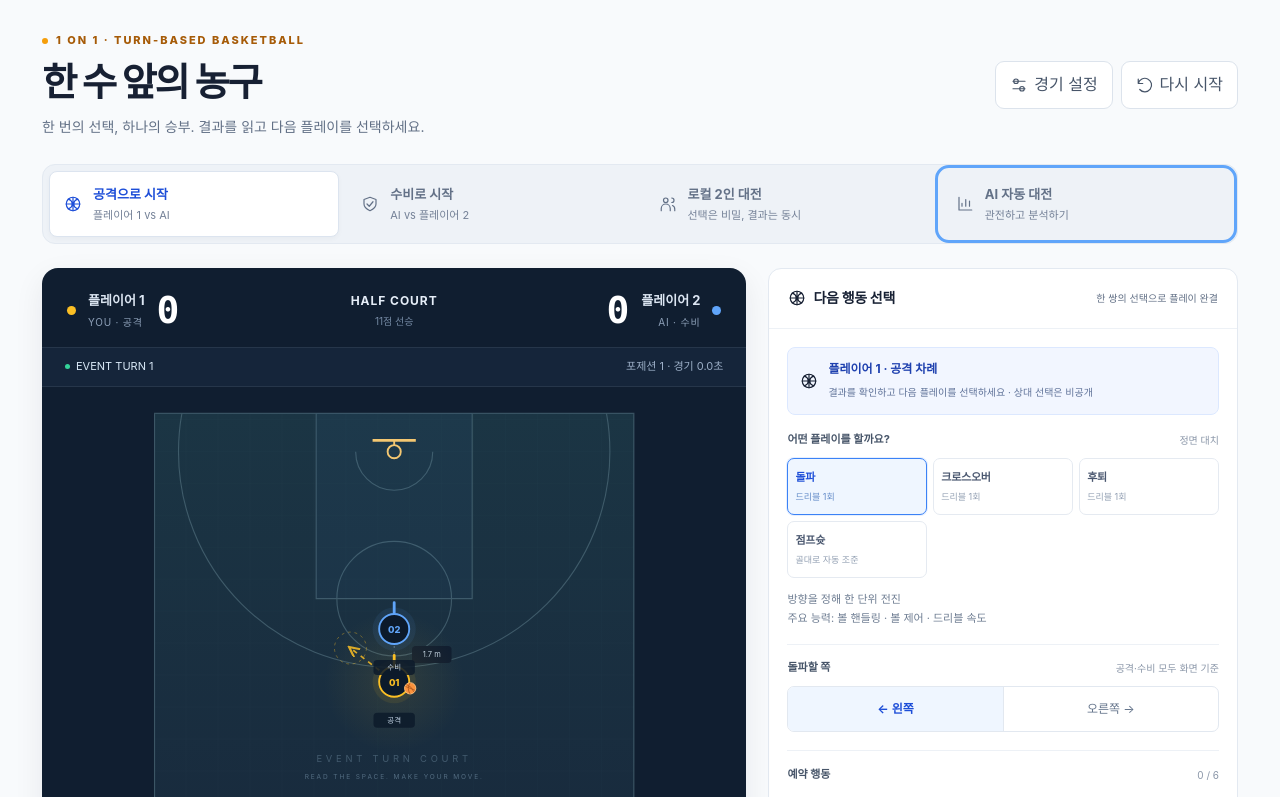
it: BasketballClient: 실제 엔진 연결과 상호작용 › AI 자동 모드에서 한 턴, 자동 시작, 일시 정지를 구분한다
Click the button "AI 자동 대전 관전하고 분석하기" at (1018, 194), box [941,171,1231,237]
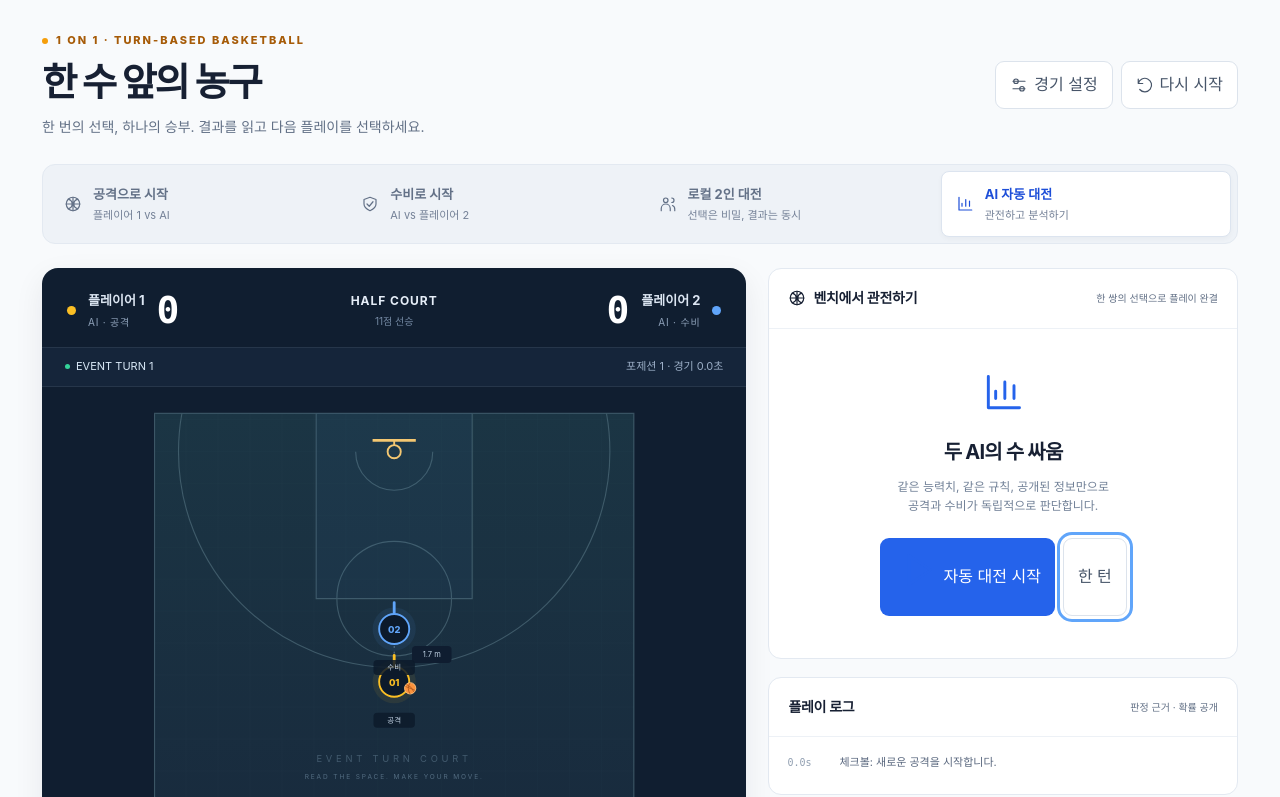
Check: the heading "벤치에서 관전하기" is shown, box [788,287,917,310]
Click the button "한 턴" at (1095, 577), box [1063,538,1127,616]
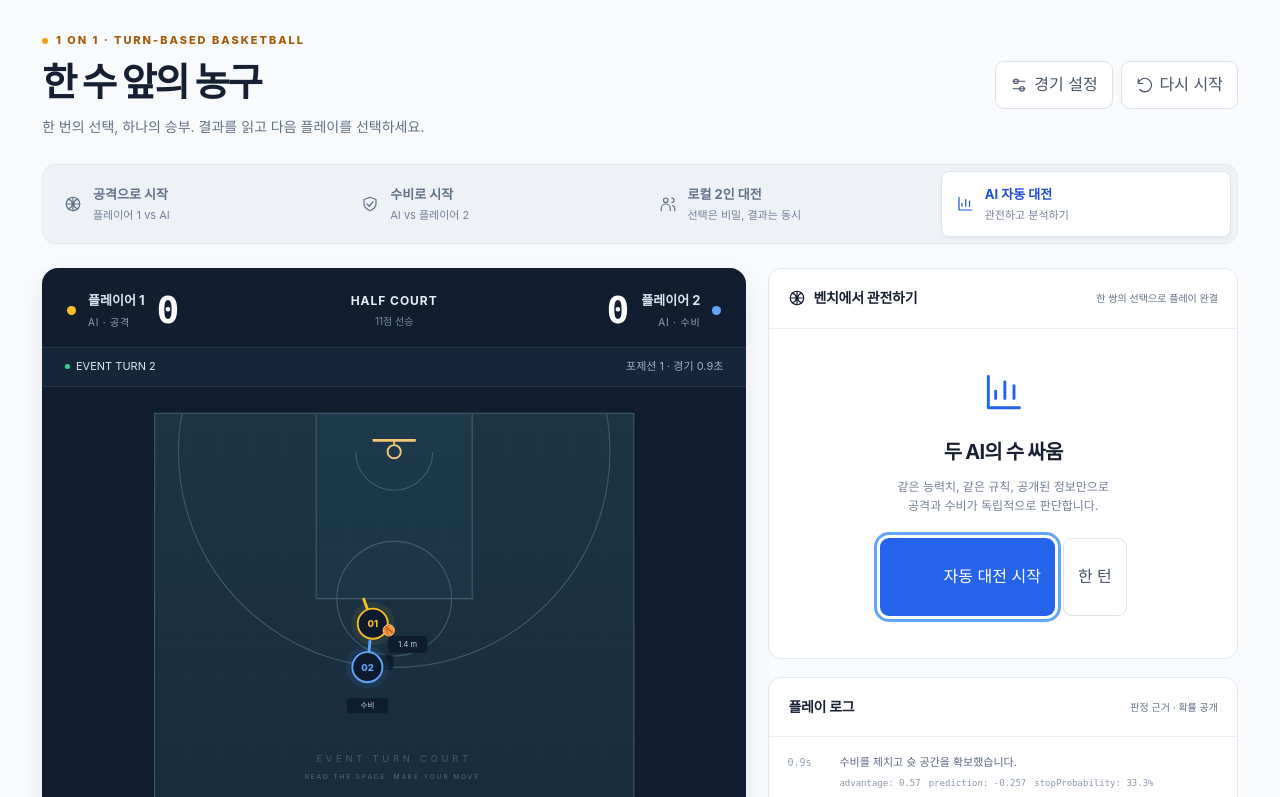
Check: the text "EVENT TURN 2" is shown, box [65,358,156,376]
Click the button "자동 대전 시작" at (967, 577), box [880,538,1055,616]
Wait 1400 ms
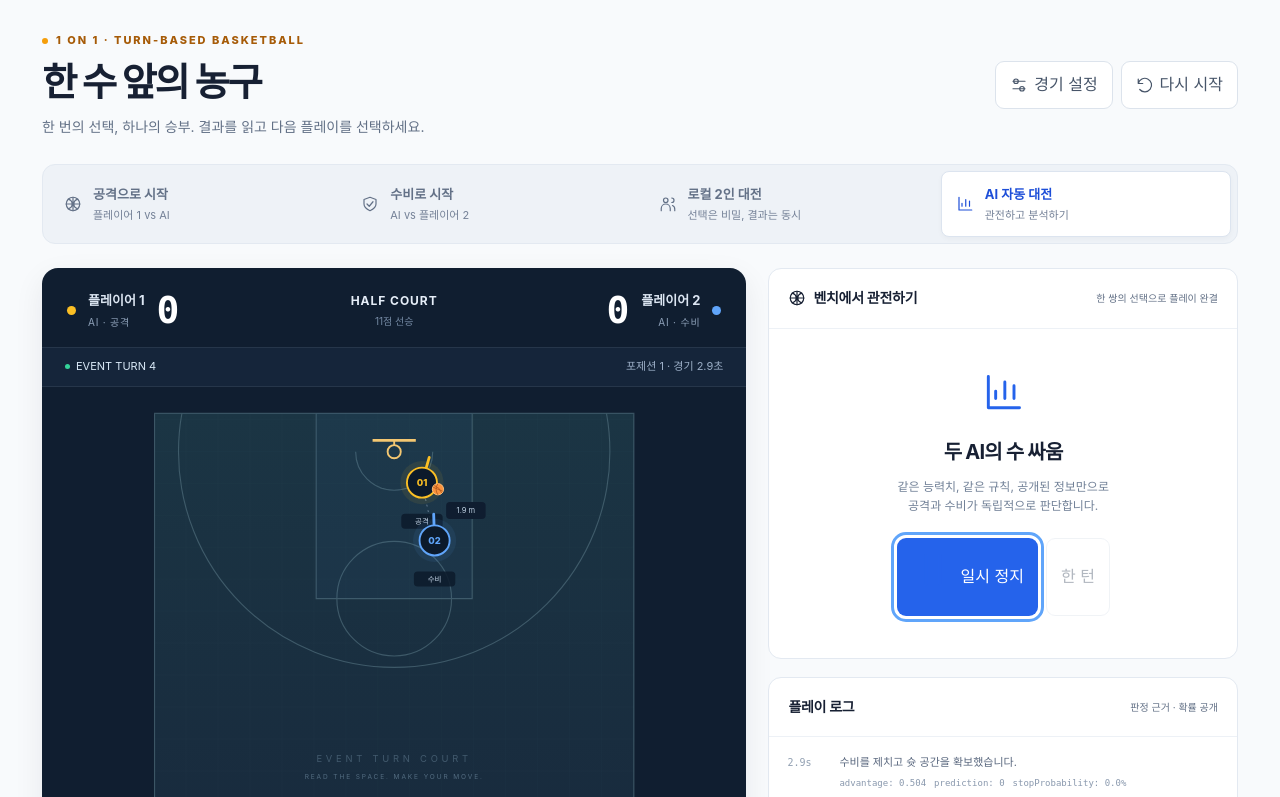
Check: the button "한 턴" is disabled, box [1046,538,1110,616]
Check: the text "EVENT TURN 4" is shown, box [65,358,156,376]
Click the button "일시 정지" at (967, 577), box [896,538,1038,616]
Wait 2100 ms
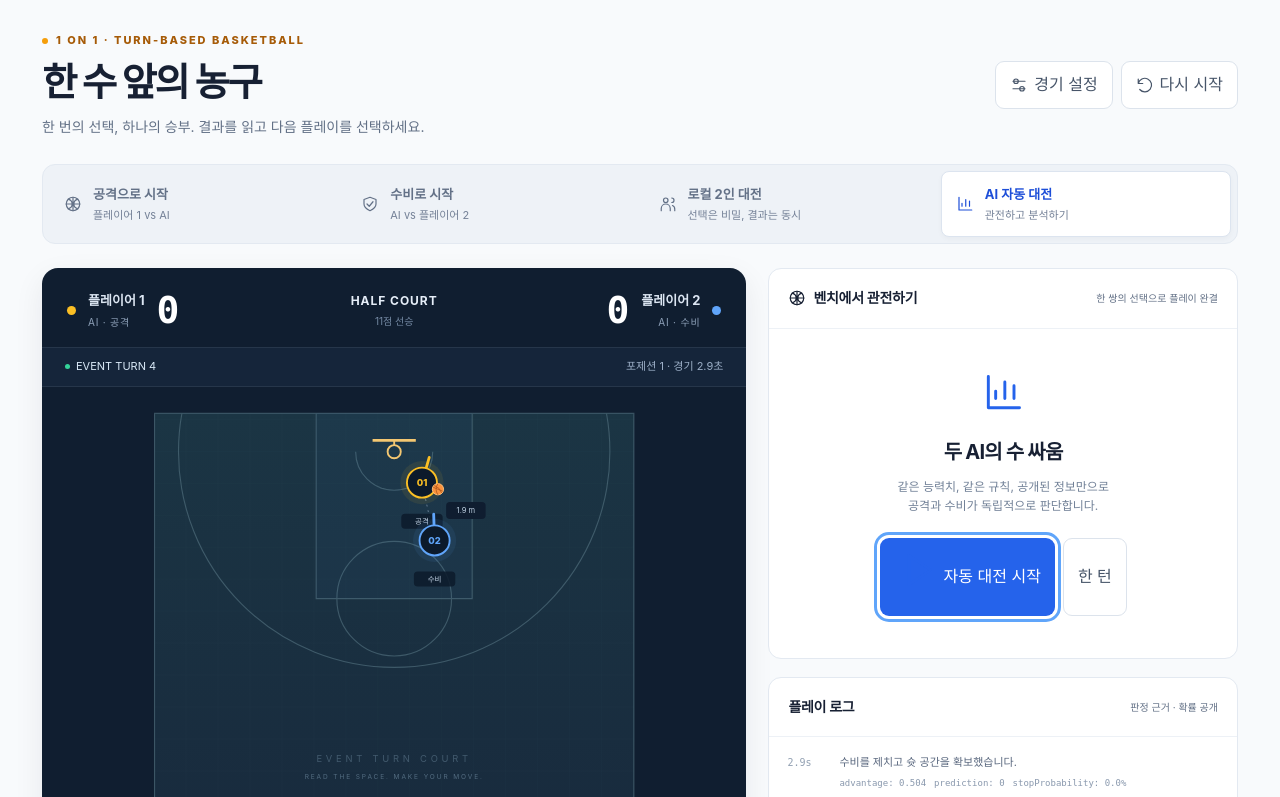
Check: the button "한 턴" is enabled, box [1063,538,1127,616]
